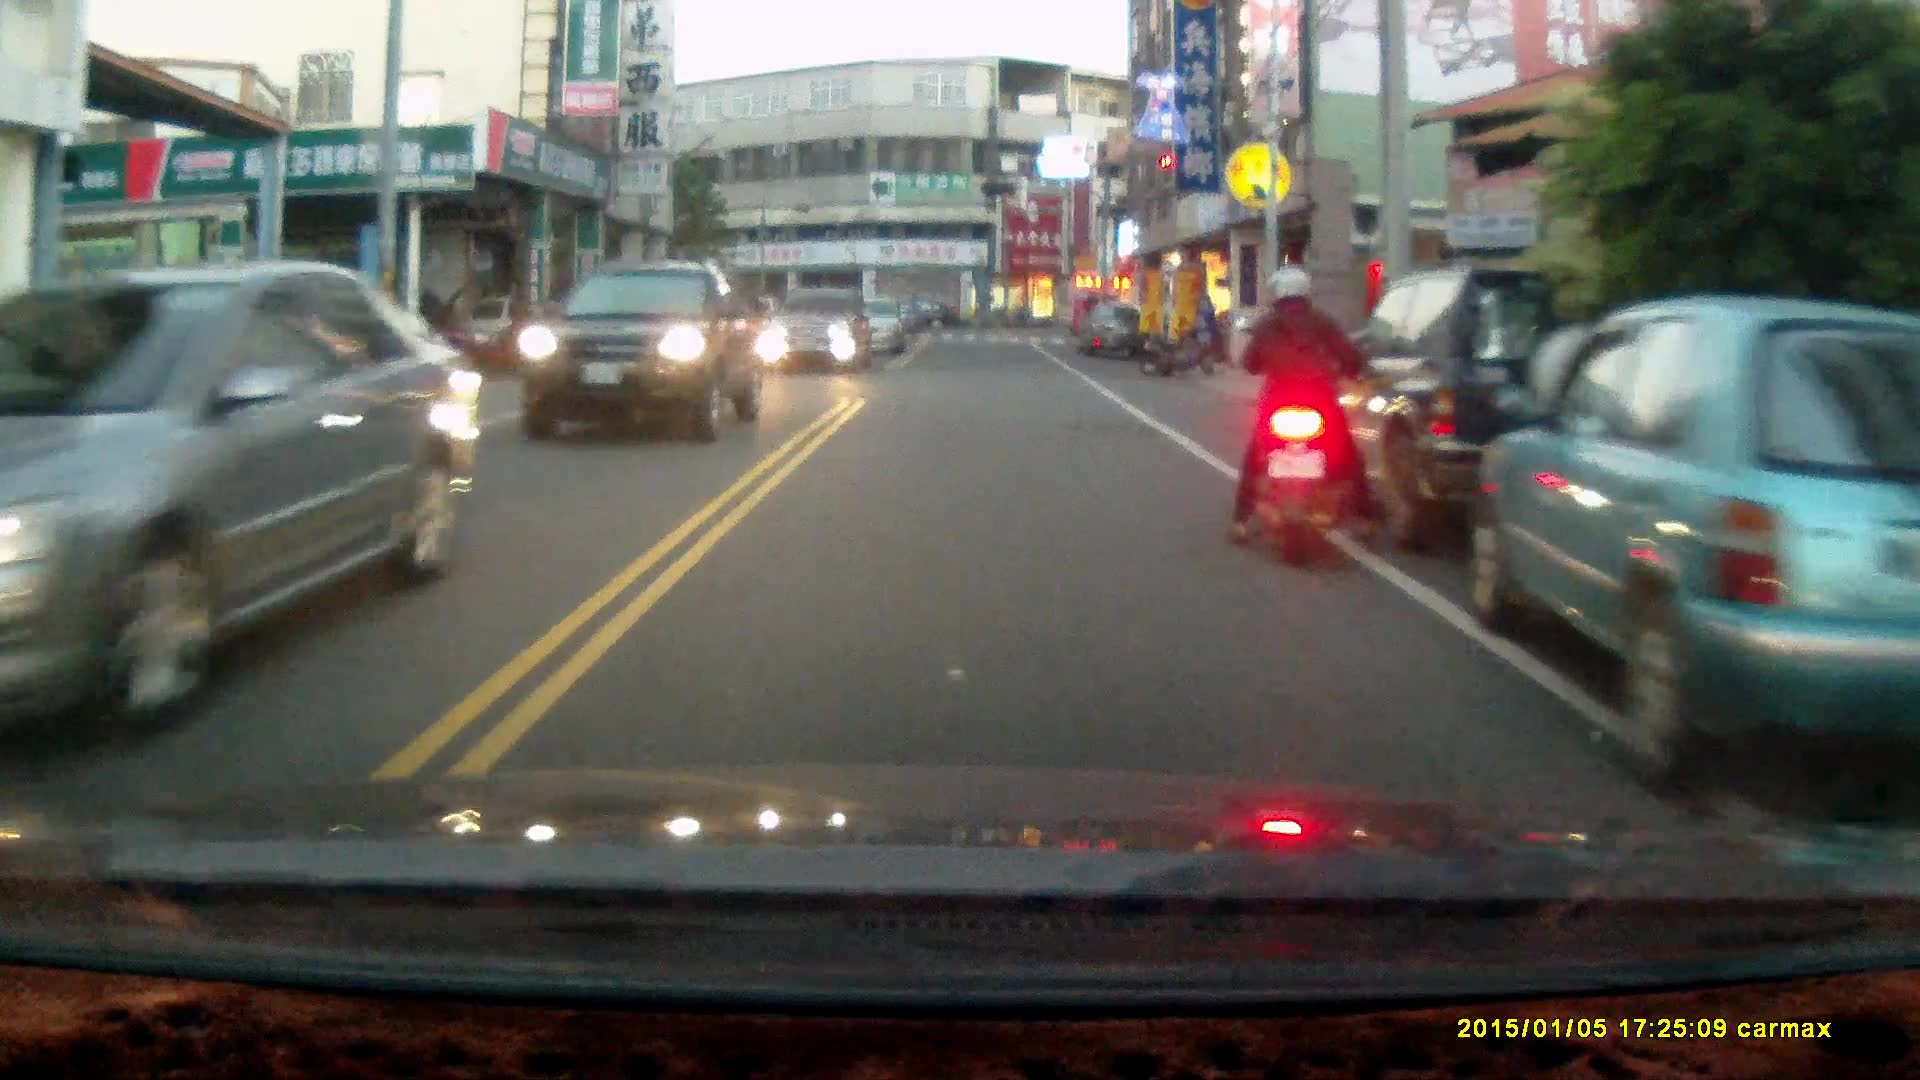rider: (1226, 264, 1379, 573)
vehicle: (1, 257, 484, 752), (1469, 294, 1920, 795), (1285, 262, 1688, 555), (519, 256, 755, 434), (754, 285, 880, 372), (1077, 300, 1147, 358)
